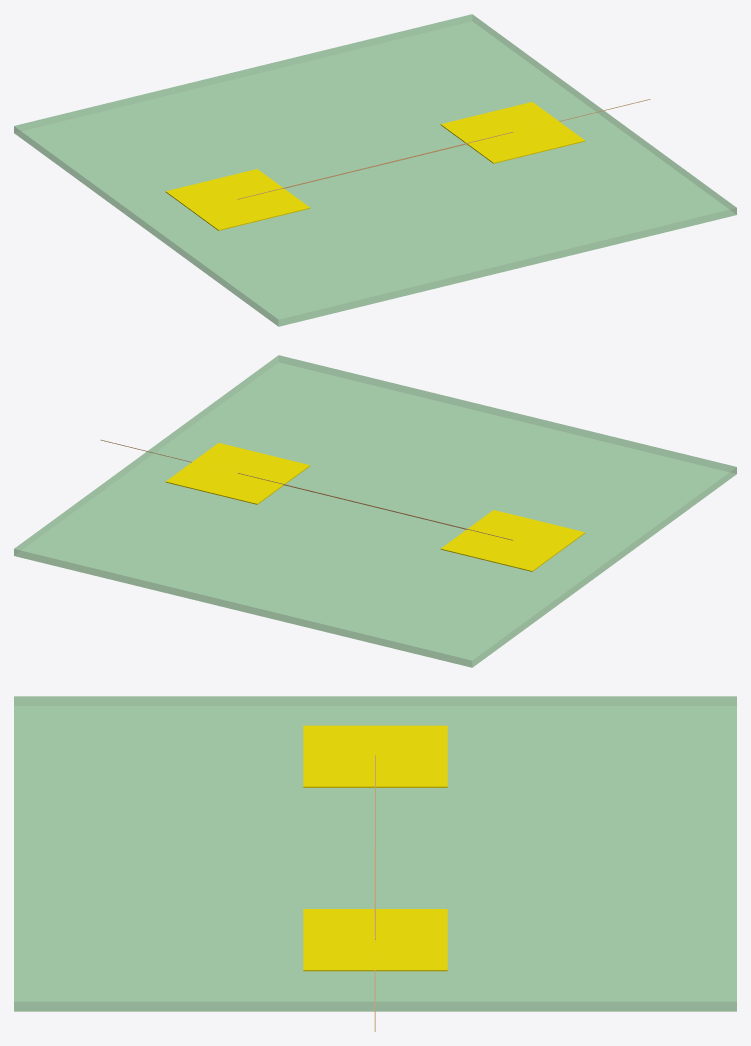
The model's file is board.glb.
The picture shows the model from 3 angles, top to bottom: view 1: azimuth 30°, elevation 25°; view 2: azimuth 150°, elevation 25°; view 3: azimuth 270°, elevation 25°; orthographic projection. The views are drawn at different scales.
Parts seen in each view (by area): view 1: Substrate_Layer_0_Z0, Substrate_Layer_1_Z0, Substrate_Layer_2_Z0; view 2: Substrate_Layer_0_Z0, Substrate_Layer_2_Z0, Substrate_Layer_1_Z0; view 3: Substrate_Layer_0_Z0, Substrate_Layer_2_Z0, Substrate_Layer_1_Z0.
Part boxes in pixels (x1,y1,x2,y2): Substrate_Layer_0_Z0: [14, 14, 736, 326]; Substrate_Layer_1_Z0: [165, 169, 310, 230]; Substrate_Layer_2_Z0: [440, 102, 585, 163]; Substrate_Layer_0_Z0: [14, 355, 736, 667]; Substrate_Layer_2_Z0: [165, 443, 310, 504]; Substrate_Layer_1_Z0: [440, 510, 585, 571]; Substrate_Layer_0_Z0: [14, 696, 736, 1011]; Substrate_Layer_2_Z0: [303, 909, 447, 971]; Substrate_Layer_1_Z0: [303, 725, 447, 787].
Size of the model in its own units: 0.11 by 0.0018 by 0.1.
